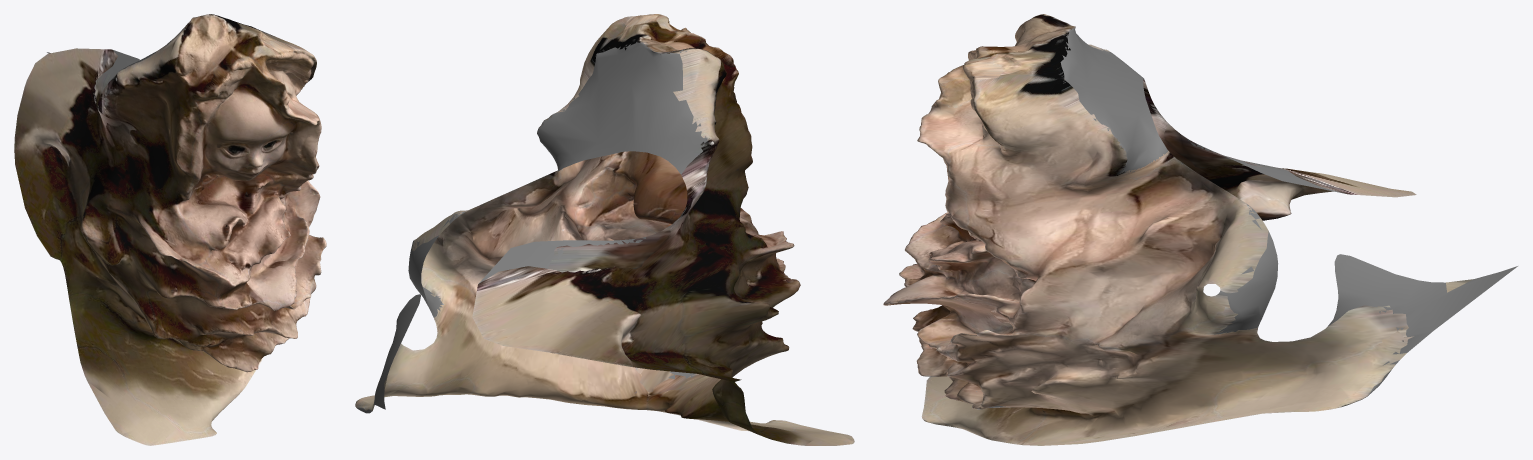
The model's file is pinkelEye.obj.
3 renders of one model, left to right at view 1: azimuth 30°, elevation 25°; view 2: azimuth 150°, elevation 25°; view 3: azimuth 270°, elevation 25°, orthographic. The views are drawn at different scales.
Visible parts, largest first — view 1: pinkelEye; view 2: pinkelEye; view 3: pinkelEye.
Boxes of the visible parts, x1,y1,x2,y2 form: pinkelEye: (14, 14, 326, 445); pinkelEye: (355, 14, 854, 445); pinkelEye: (883, 14, 1517, 445).
Size of the model in its own units: 15.62 by 19.71 by 26.81.
